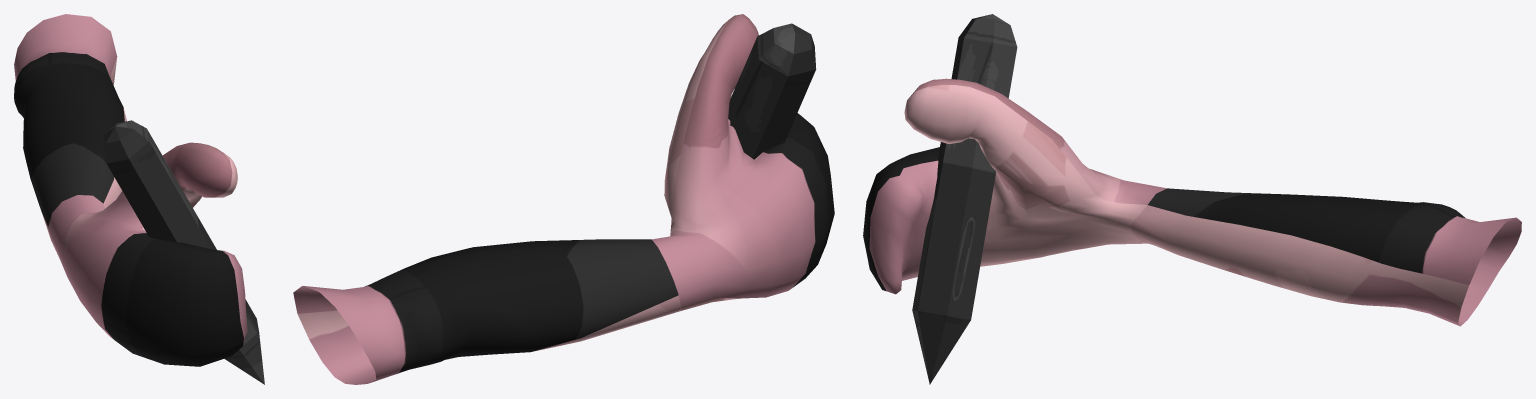
The model's file is Hand.fbx.
The picture shows the model from 3 angles, left to right: view 1: azimuth 30°, elevation 25°; view 2: azimuth 150°, elevation 25°; view 3: azimuth 270°, elevation 25°; orthographic projection. The views are drawn at different scales.
Visible parts, largest first — view 1: 0.5_R_ARM; view 2: 0.5_R_ARM; view 3: 0.5_R_ARM.
Boxes of the visible parts, bbox=[...] form: 0.5_R_ARM: bbox=[14, 14, 264, 384]; 0.5_R_ARM: bbox=[293, 14, 834, 384]; 0.5_R_ARM: bbox=[863, 14, 1521, 384].
Size of the model in its own units: 0.1328 by 0.149 by 0.292.
